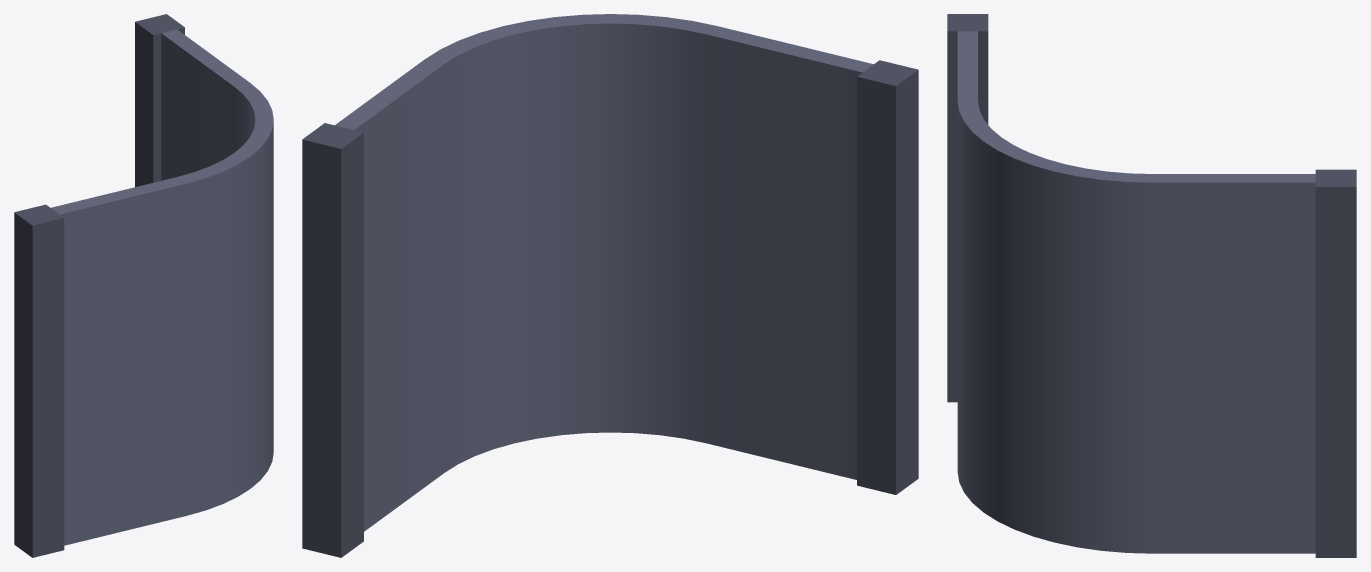
File: wall-wood-rounded.glb
3 renders of one model, left to right at view 1: azimuth 30°, elevation 25°; view 2: azimuth 150°, elevation 25°; view 3: azimuth 270°, elevation 25°, orthographic. The views are drawn at different scales.
Visible parts, largest first — view 1: wall-wood-rounded; view 2: wall-wood-rounded; view 3: wall-wood-rounded.
Boxes of the visible parts, x1,y1,x2,y2 form: wall-wood-rounded: (14,14,273,557); wall-wood-rounded: (302,14,918,557); wall-wood-rounded: (947,14,1356,557).
Size of the model in its own units: 1 by 1 by 1.
1 material, 1 textured.
